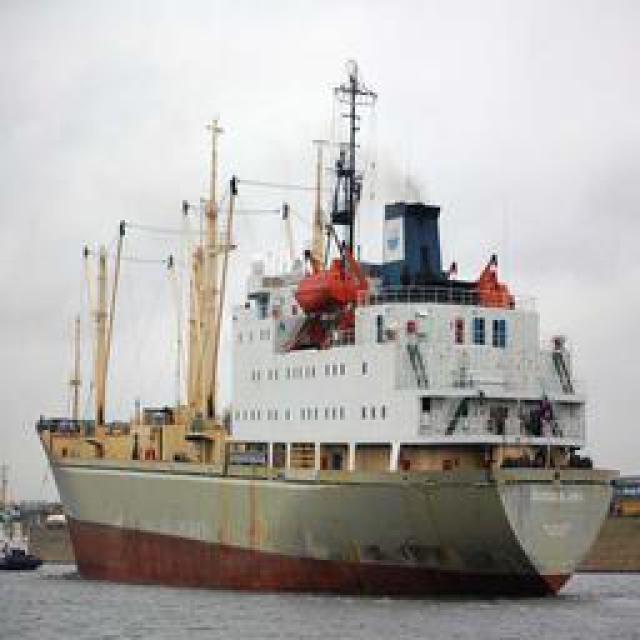Ship: (40, 51, 613, 591)
